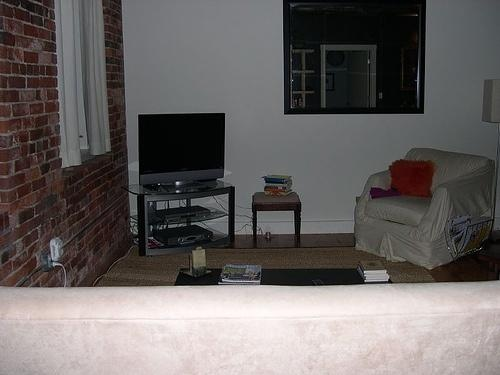chair: (354, 147, 499, 270)
sofa: (2, 280, 500, 375)
tvmonitor: (139, 112, 227, 190)
